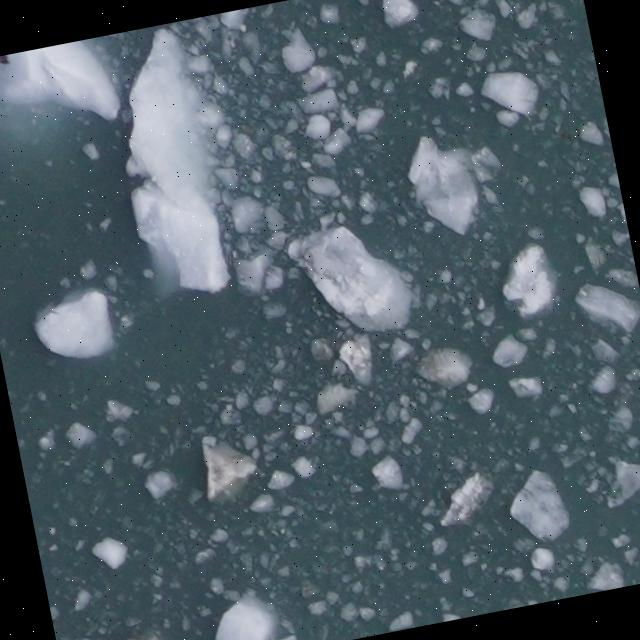seal: (0, 55, 16, 70)
